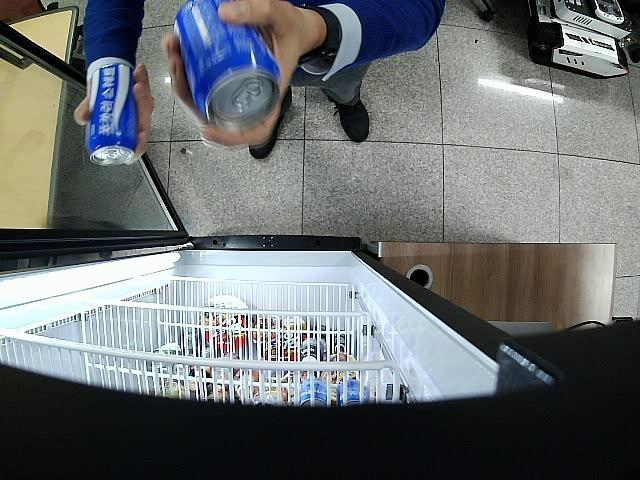13_pocariSweat: (174, 0, 280, 135), (88, 63, 137, 167)
